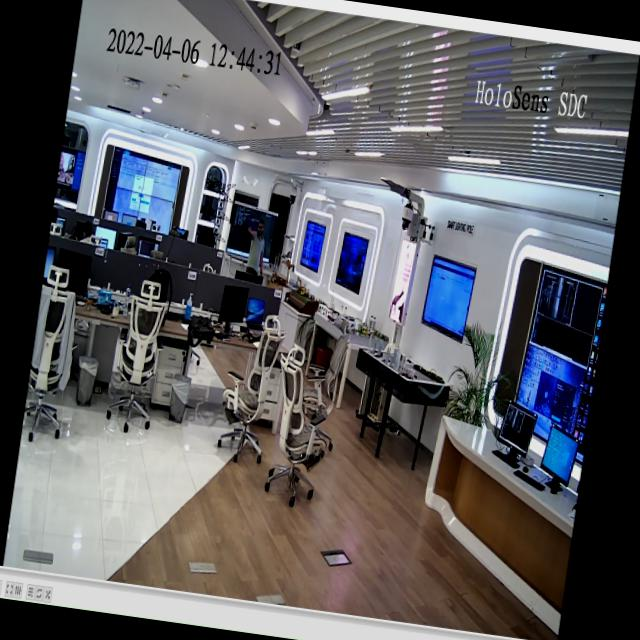long weapon: (246, 217, 256, 234)
